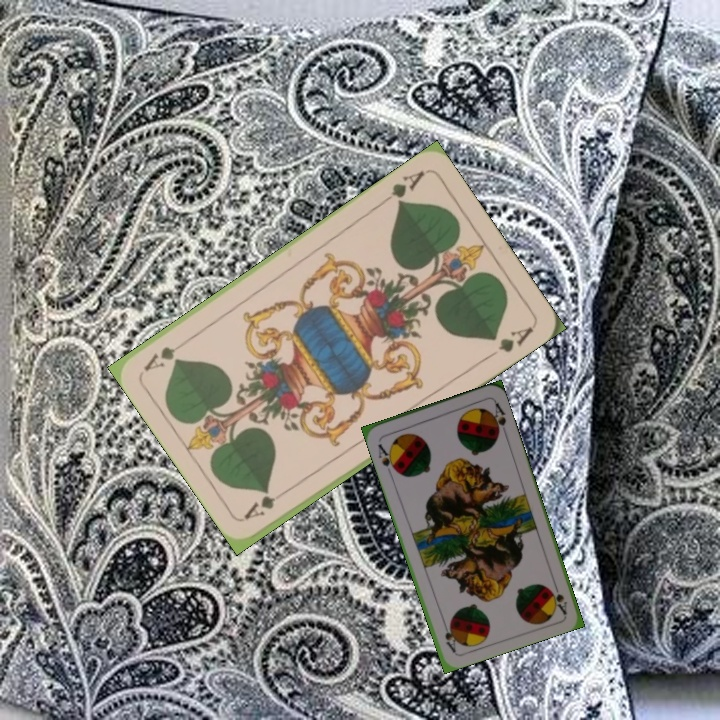GA: (376, 166, 428, 208), (240, 483, 293, 522)
SA: (547, 576, 570, 616), (374, 440, 399, 474)
